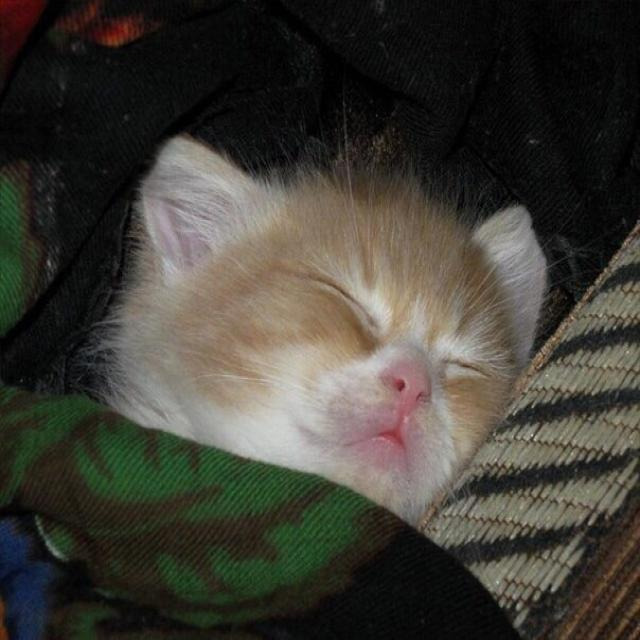Cats: (83, 94, 554, 553)
